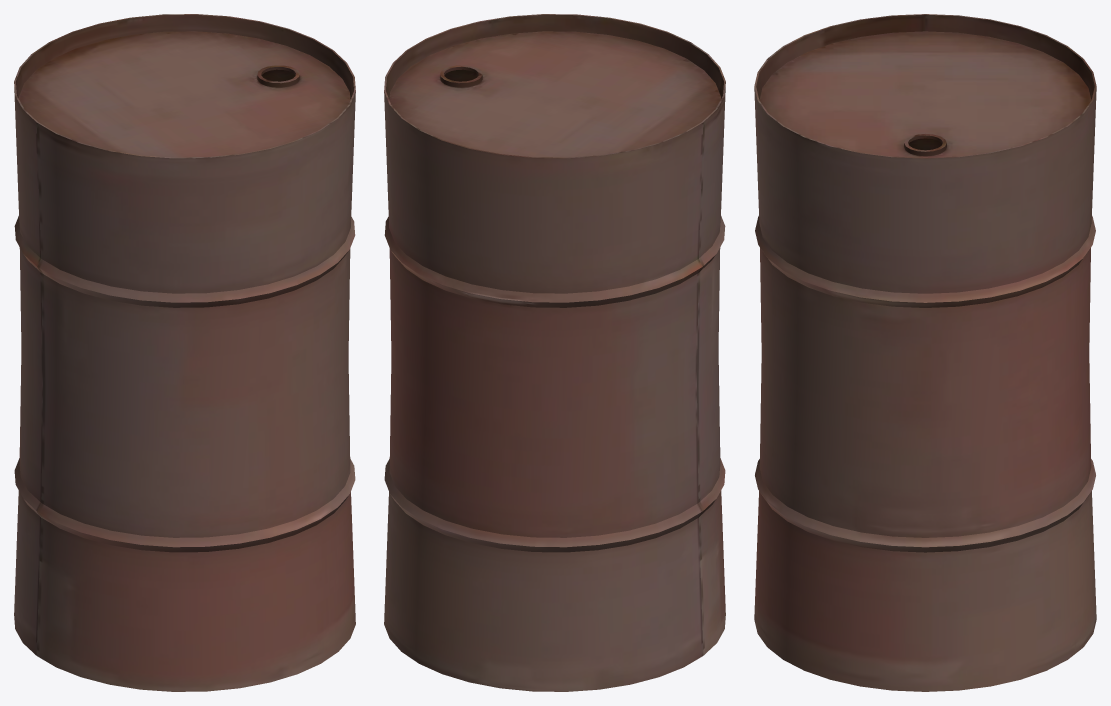
3 views of the same model, side by side, from view 1: azimuth 30°, elevation 25°; view 2: azimuth 150°, elevation 25°; view 3: azimuth 270°, elevation 25° (orthographic).
Visible parts, largest first — view 1: body0_model0_lod0_mesh0; view 2: body0_model0_lod0_mesh0; view 3: body0_model0_lod0_mesh0.
Boxes of the visible parts, bbox=[...] form: body0_model0_lod0_mesh0: bbox=[14, 14, 355, 691]; body0_model0_lod0_mesh0: bbox=[384, 14, 725, 691]; body0_model0_lod0_mesh0: bbox=[754, 14, 1096, 691].
Size of the model in its own units: 32 by 55 by 32.
1 material, 1 textured.
